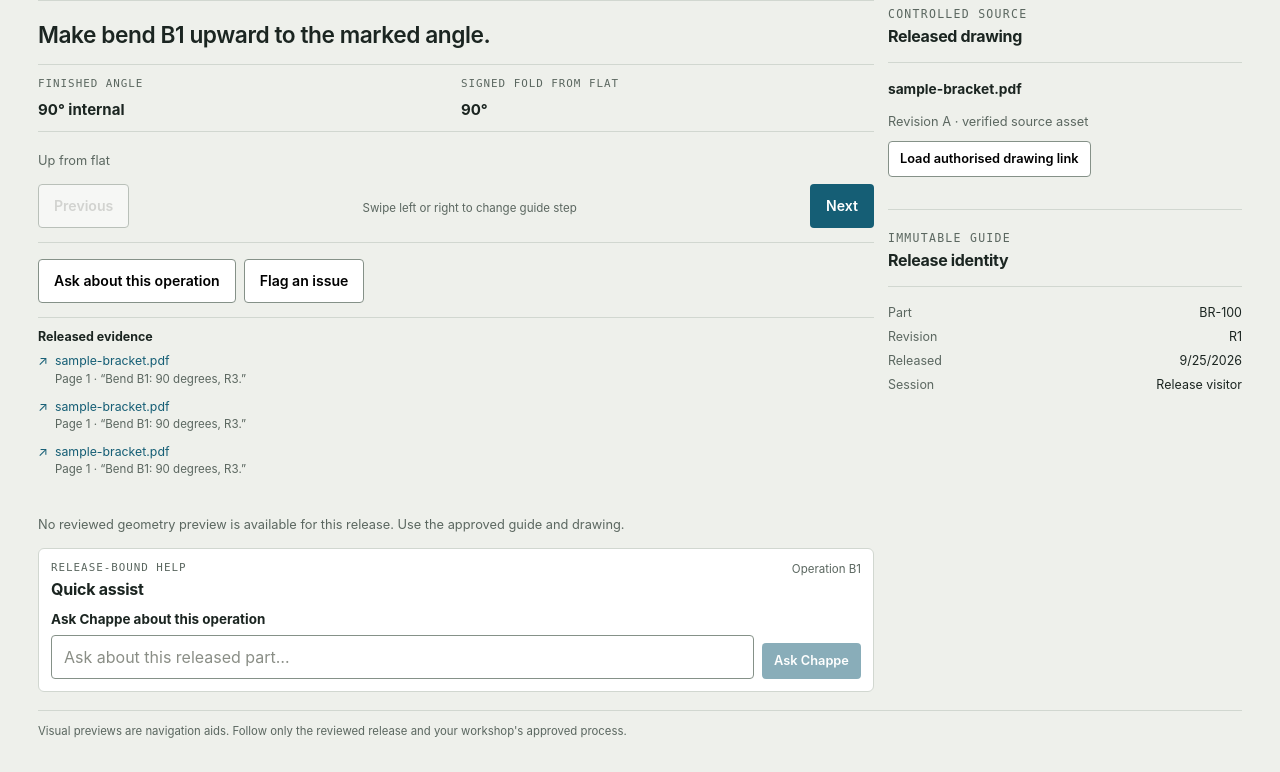
Test: release-bound factory floor › keeps quick assist scoped to the current release and operation, then offers a contextual flag
This screenshot has width=1280, height=772.
(page scrolled)
Expected: the heading "Quick assist" is shown, [51, 579, 144, 599]
Type "Which face is the reference side?" into the field labelled "Ask Chappe about this operation". click: coordinates (402, 657)
box: [51, 635, 754, 679]
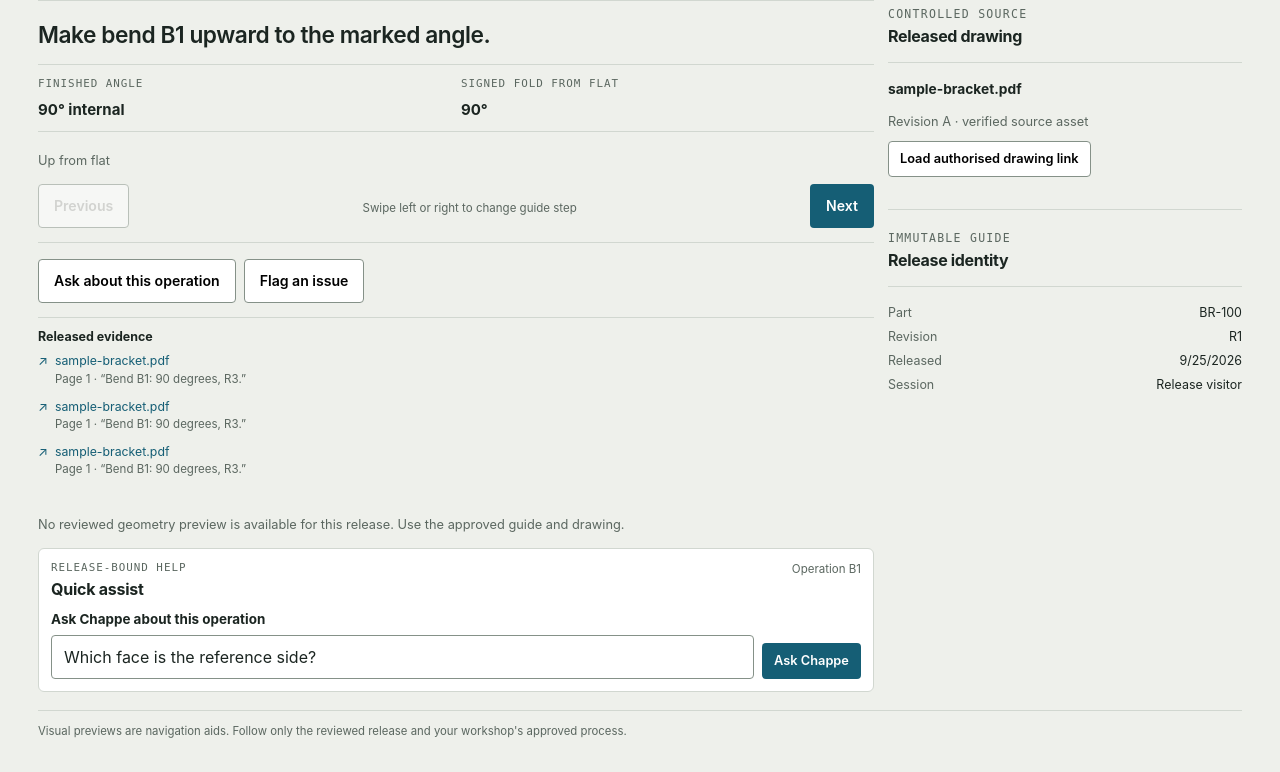
Click the button "Ask Chappe". click: coordinates (811, 661)
box: [762, 643, 861, 679]
(page scrolled)
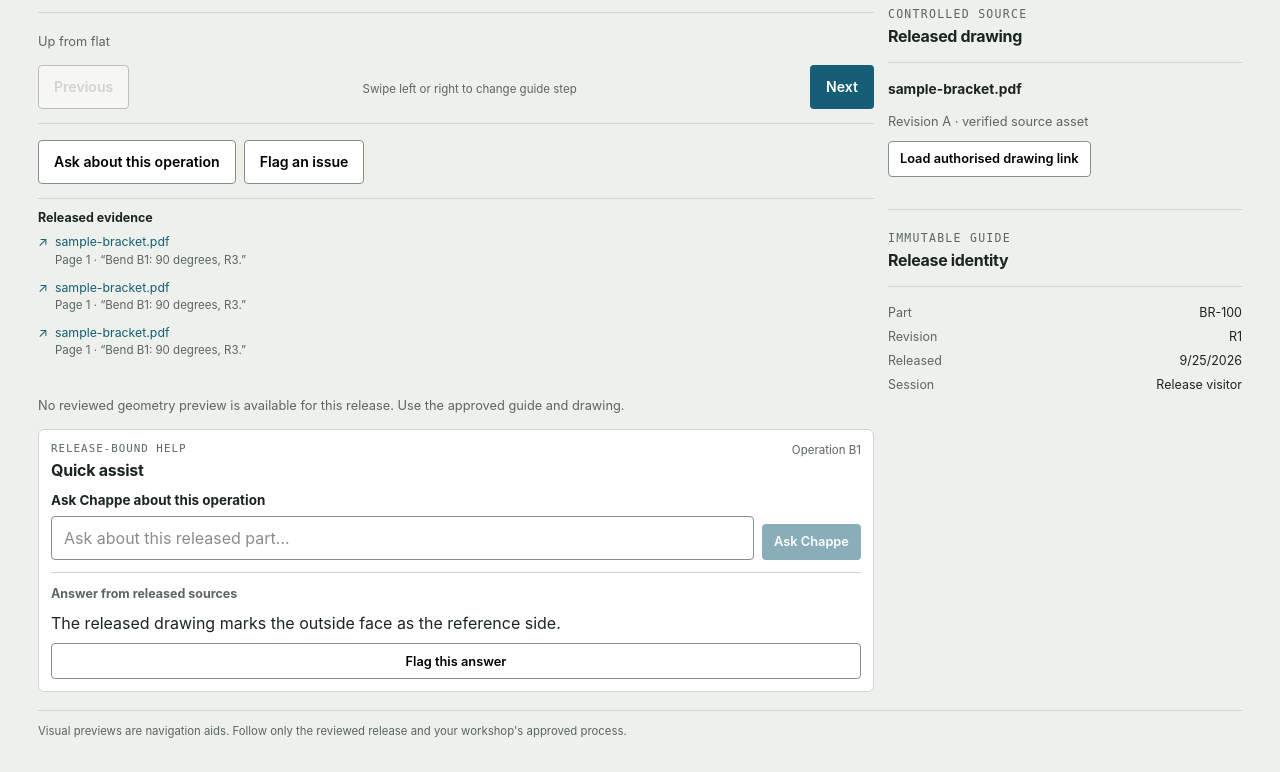
Now the text "The released drawing marks the outside face as the reference side." is shown, box [51, 613, 561, 633]
Click the button "Flag this answer". click: coordinates (456, 661)
box: [51, 643, 861, 679]
(page scrolled)
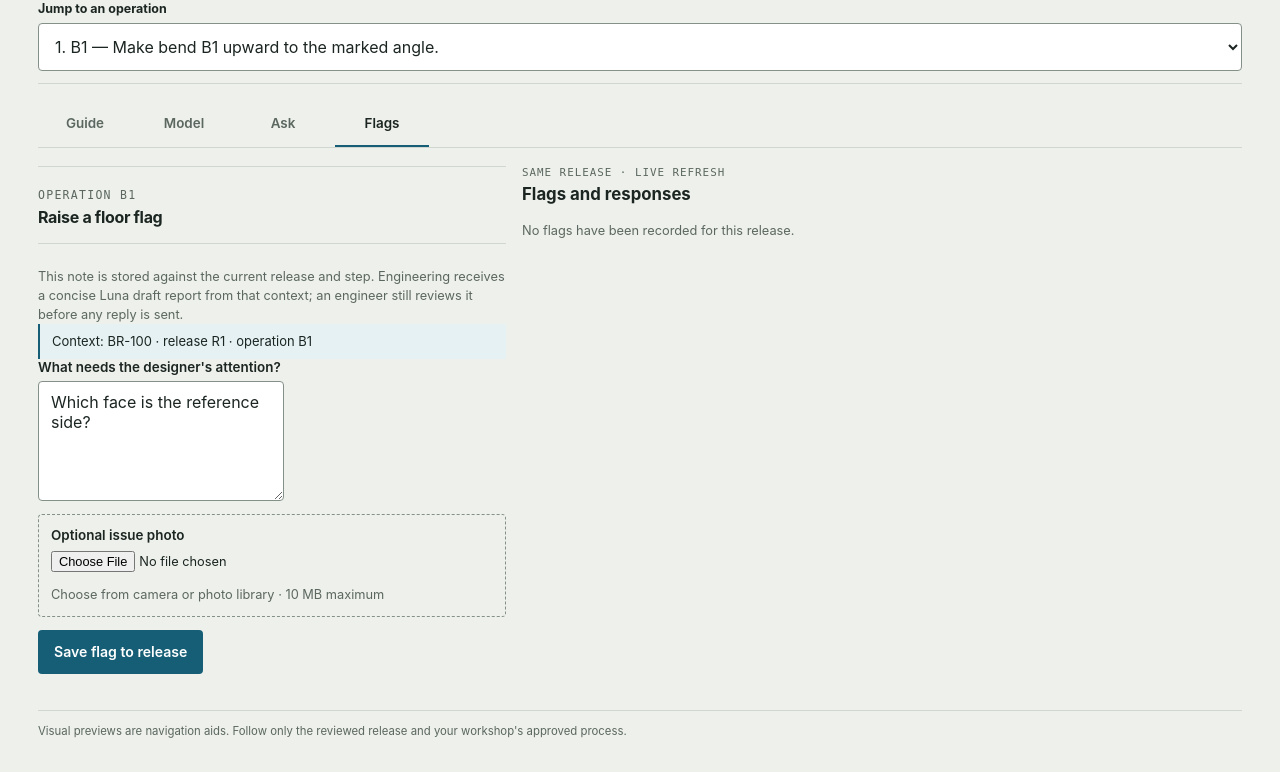
Now the text box labelled "What needs the designer's attention?" is shown, box [38, 381, 284, 501]
